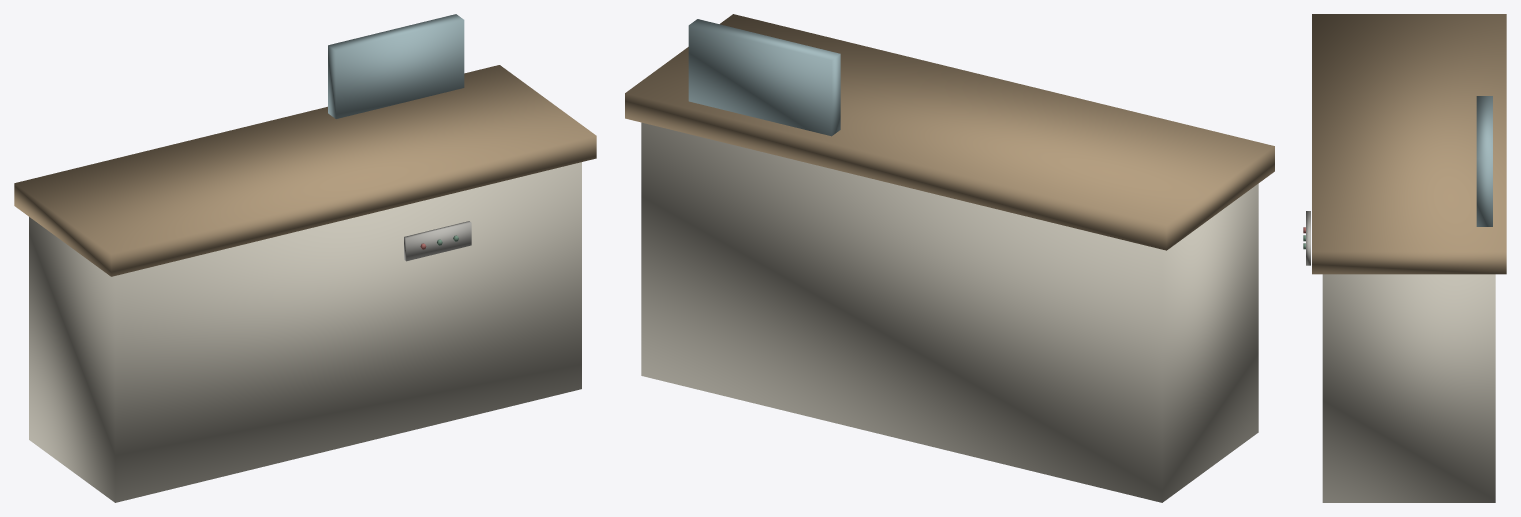
File: service_counter__tall.glb
3 renders of one model, left to right at view 1: azimuth 30°, elevation 25°; view 2: azimuth 150°, elevation 25°; view 3: azimuth 270°, elevation 25°, orthographic. The views are drawn at different scales.
Visible parts, largest first — view 1: world; view 2: world; view 3: world.
Boxes of the visible parts, bbox=[...] form: world: bbox=[14, 14, 596, 502]; world: bbox=[625, 14, 1274, 502]; world: bbox=[1303, 14, 1506, 502].
Size of the model in its own units: 2.08 by 1.32 by 0.751.
